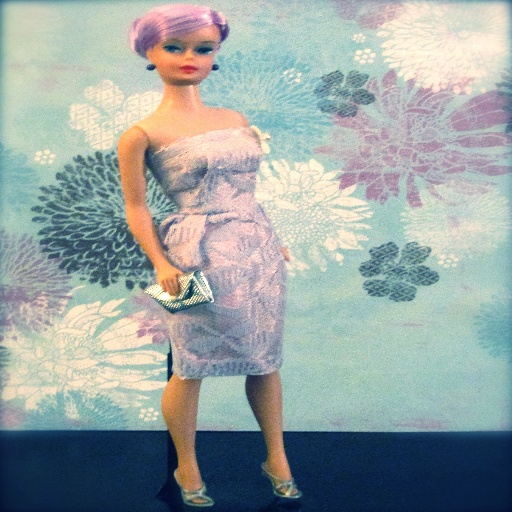hand: (154, 269, 180, 290), (279, 245, 292, 262)
